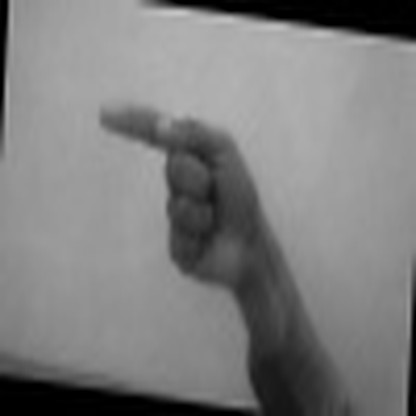g: (94, 97, 276, 282)
